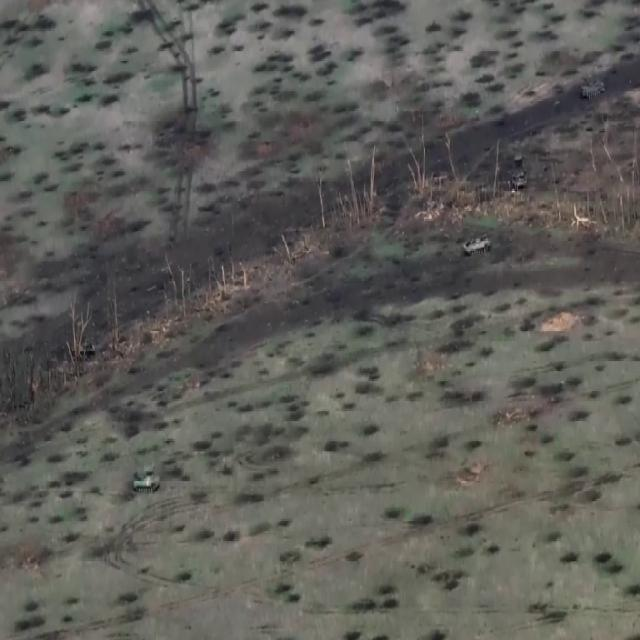APC-IFV: (462, 225, 496, 259), (129, 464, 163, 494), (580, 70, 608, 103), (73, 336, 101, 366)
MLRS: (508, 146, 528, 194)
